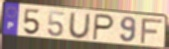5: (47, 10, 65, 38), (23, 8, 41, 36)
9: (119, 16, 137, 45)
F: (139, 18, 165, 45)
P: (91, 13, 115, 42)
U: (68, 12, 92, 40)
